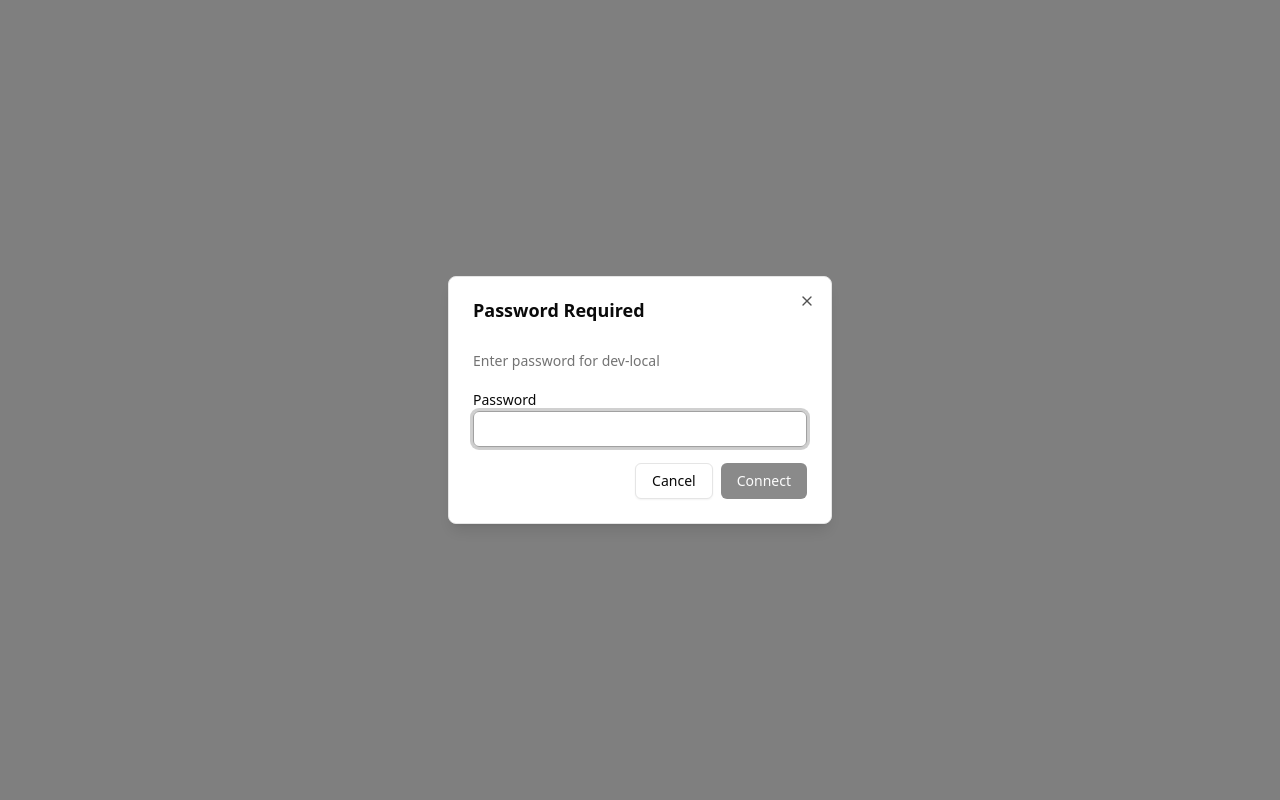
Test: PasswordPrompt › enables Connect when password is entered
In the password field labelled "Password": (640, 429) [473,411,807,447], type "secret"
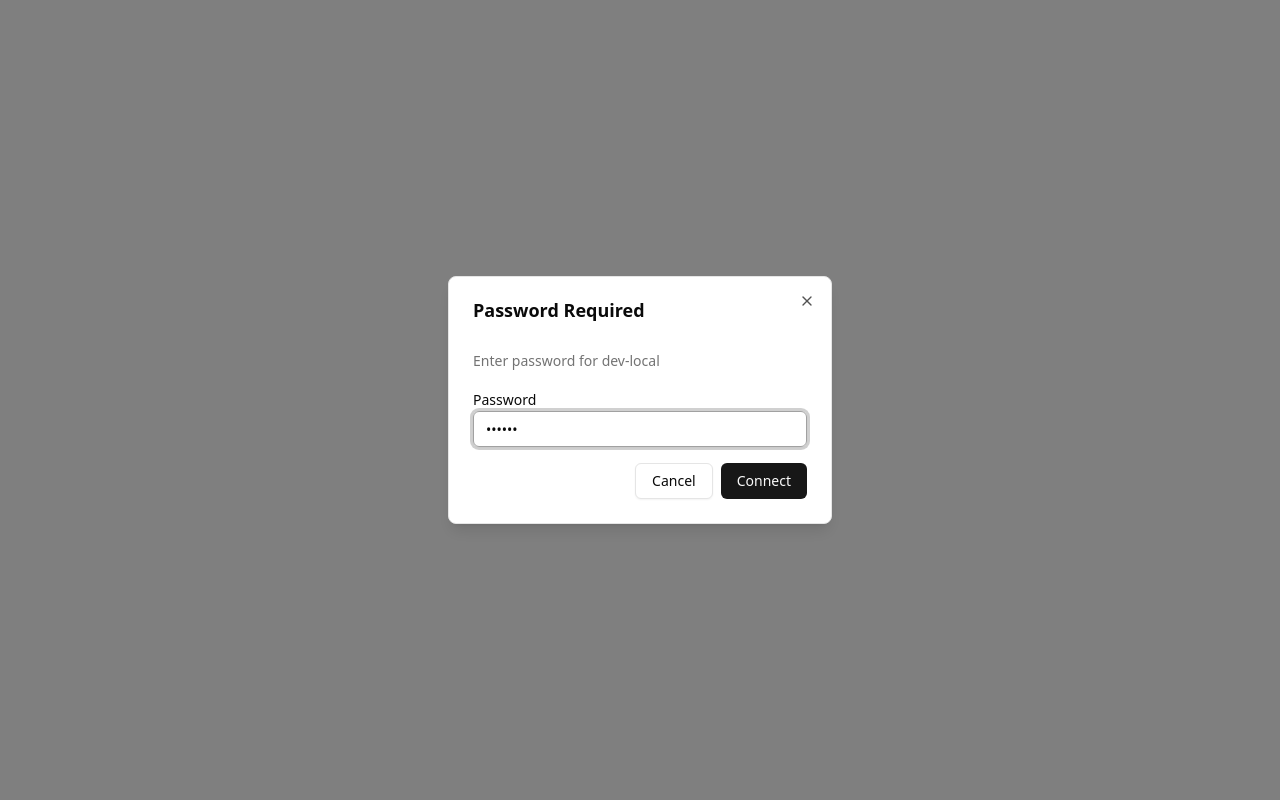
Expected: the button "Connect" is enabled, [721,463,807,499]
